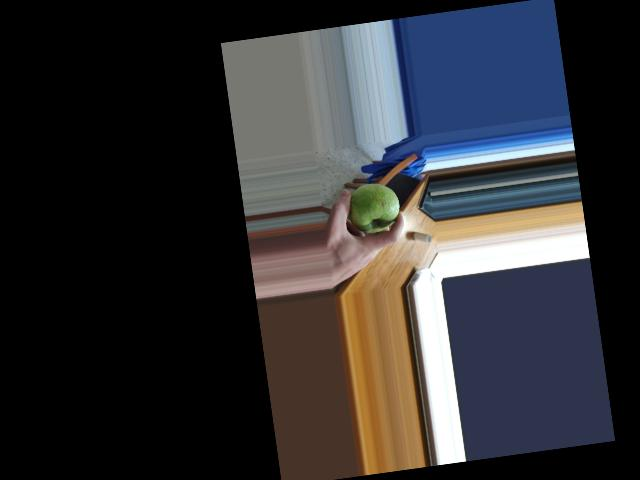apple: (343, 179, 405, 236)
